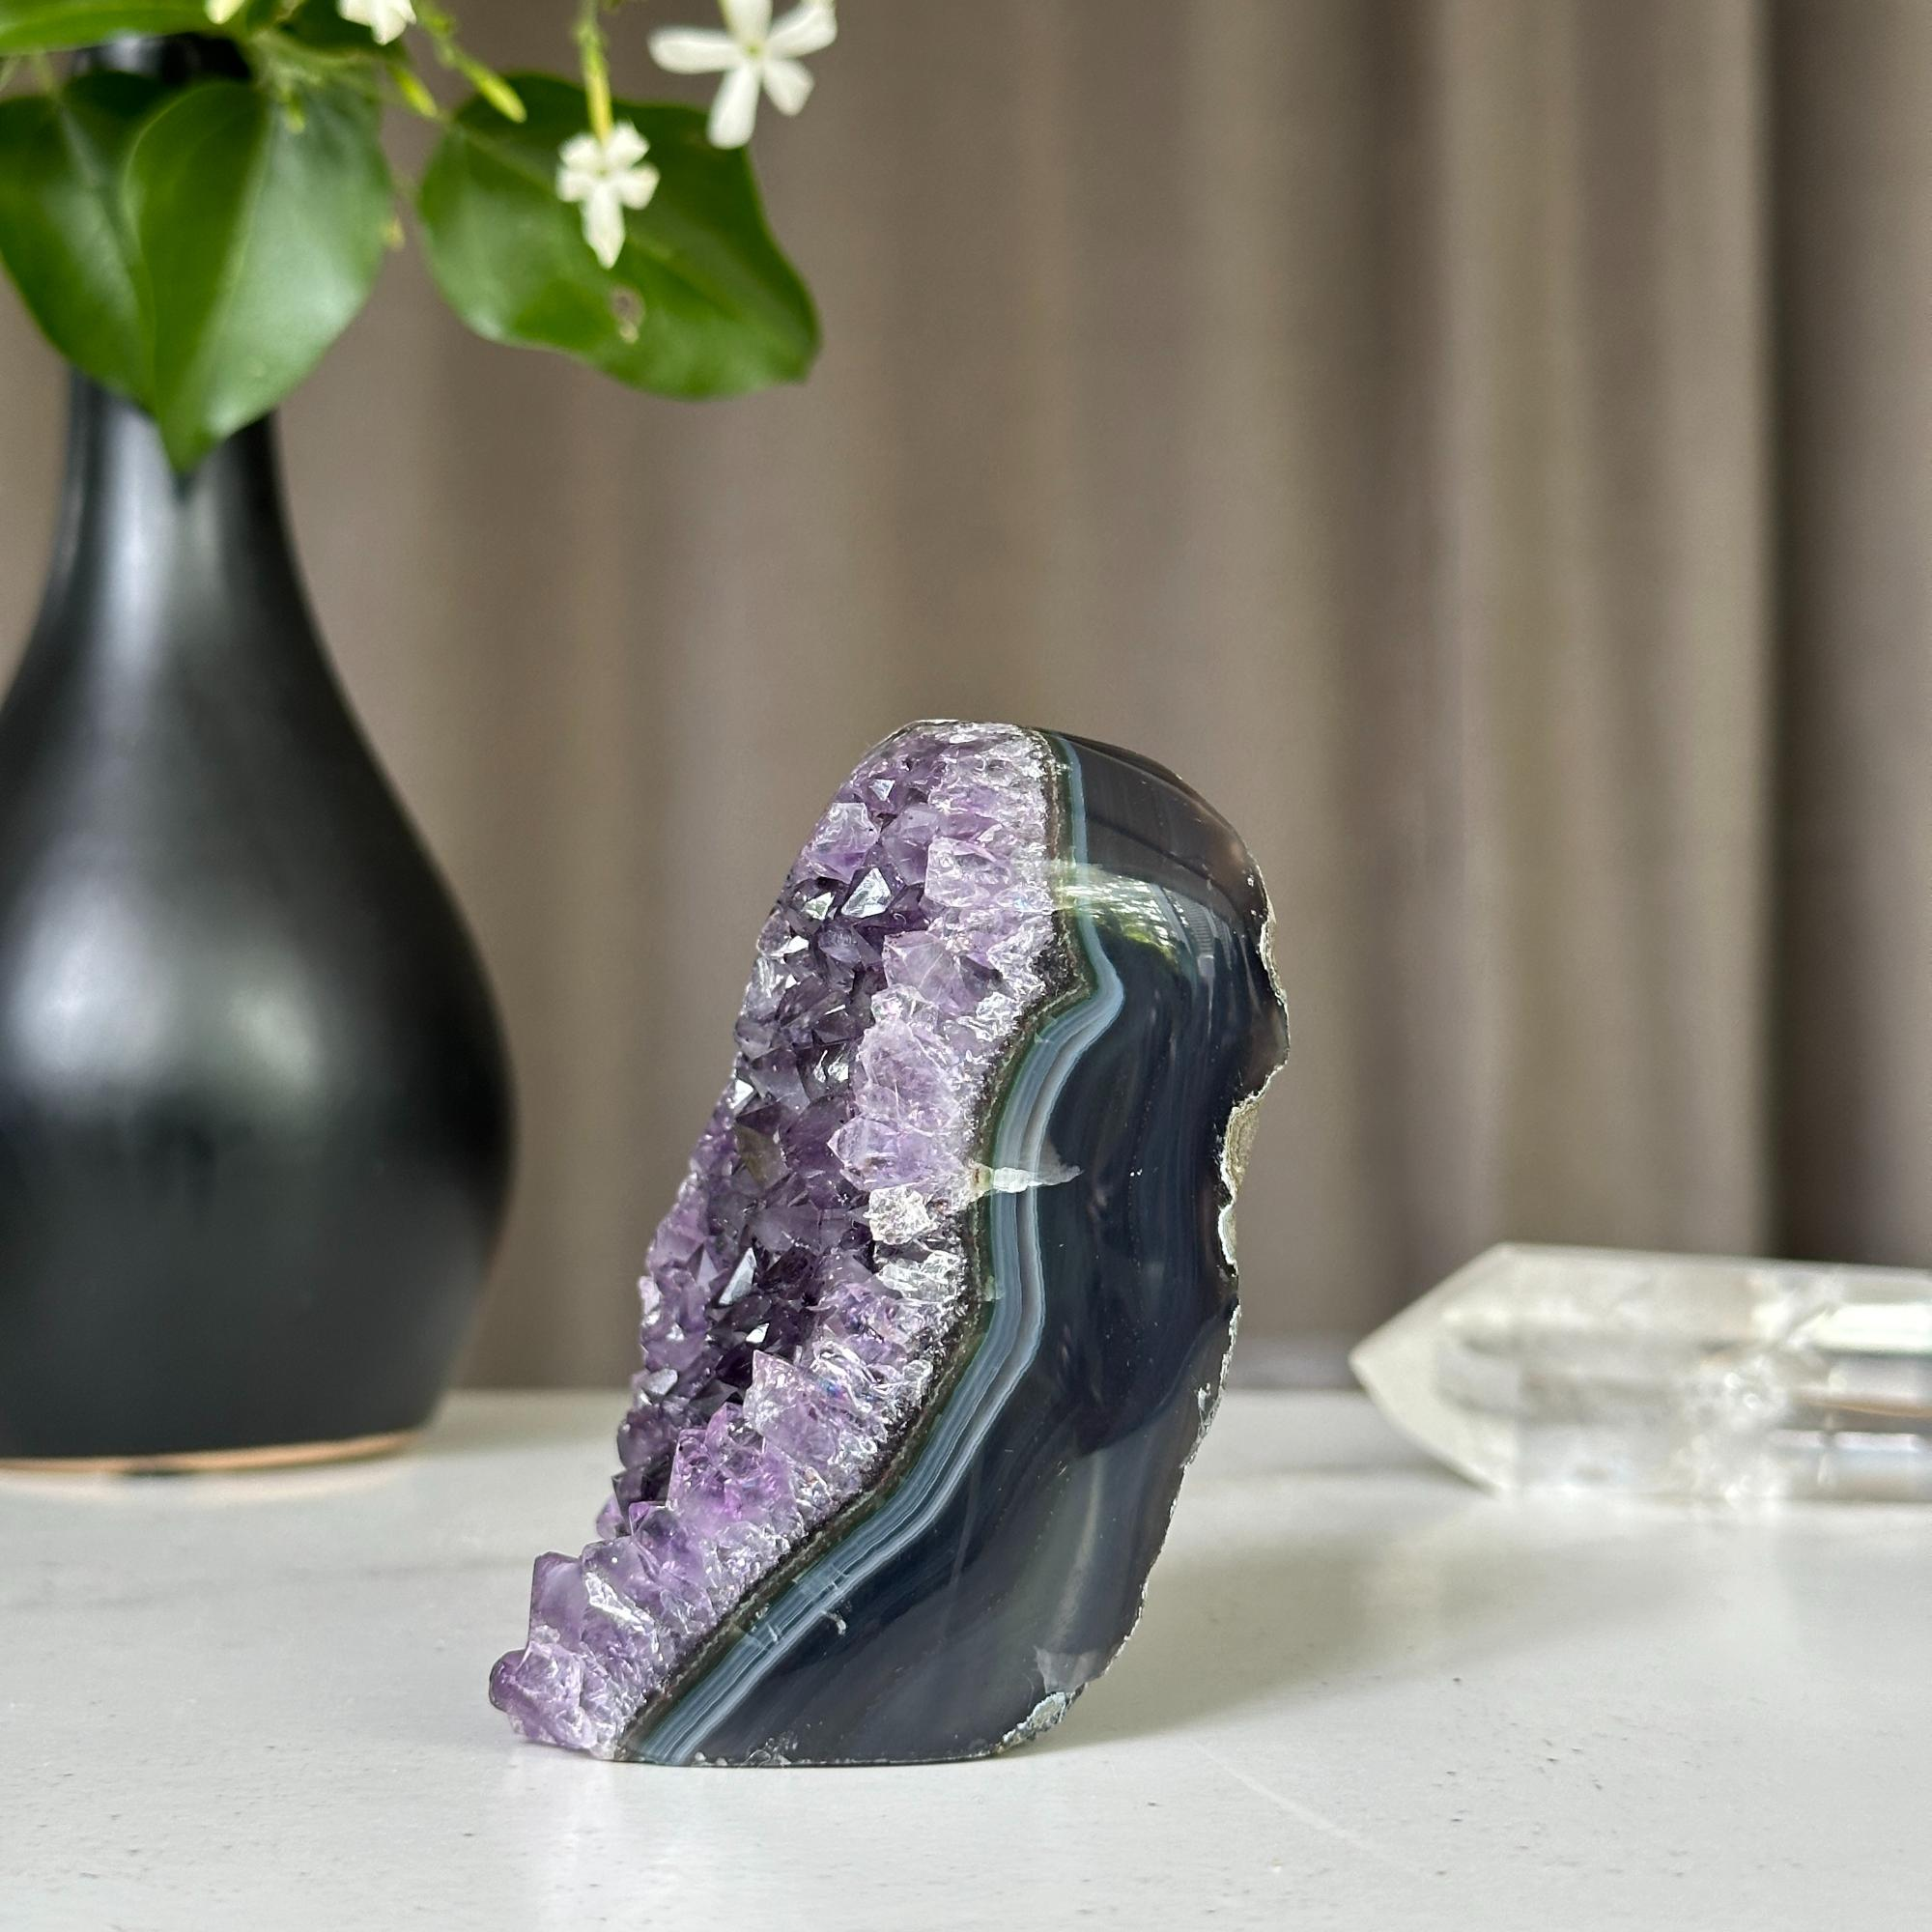Amethyst: (476, 713, 1302, 1773)
